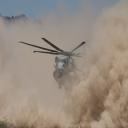helicopter: (21, 38, 86, 90)
